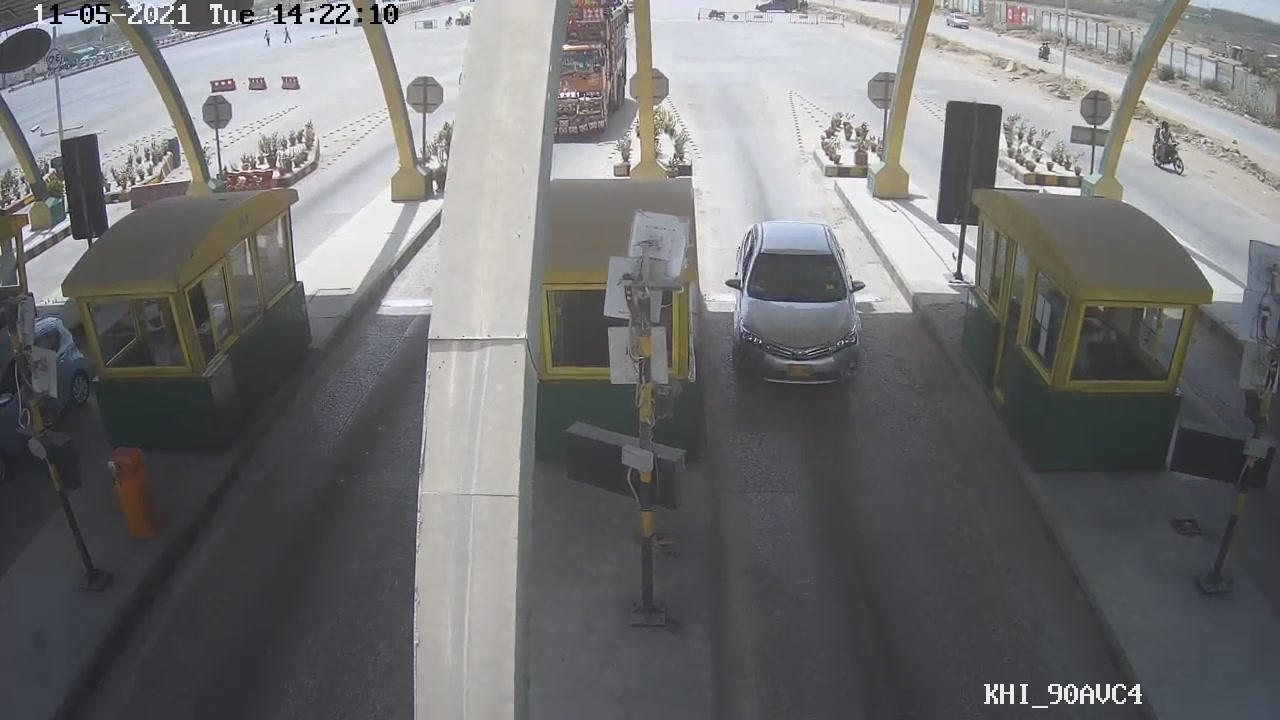F1: (719, 215, 876, 395)
